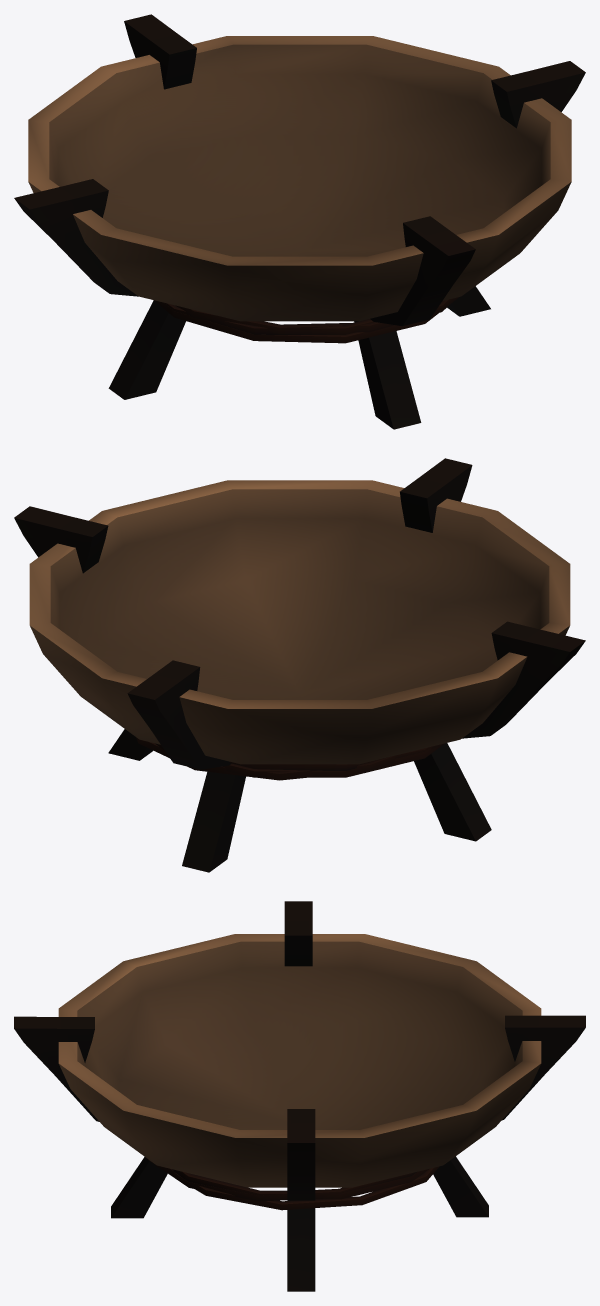
Rendered from ModernFireplace_Empty.fbx.
The picture shows the model from 3 angles, top to bottom: view 1: azimuth 30°, elevation 25°; view 2: azimuth 150°, elevation 25°; view 3: azimuth 270°, elevation 25°; orthographic projection. The views are drawn at different scales.
Parts seen in each view (by area): view 1: ModernFireplace_Empty; view 2: ModernFireplace_Empty; view 3: ModernFireplace_Empty.
Part boxes in pixels (<box>): ModernFireplace_Empty: <box>14,14,585,429</box>; ModernFireplace_Empty: <box>14,458,585,872</box>; ModernFireplace_Empty: <box>14,901,585,1291</box>.
Size of the model in its own units: 166 by 60.77 by 166.
